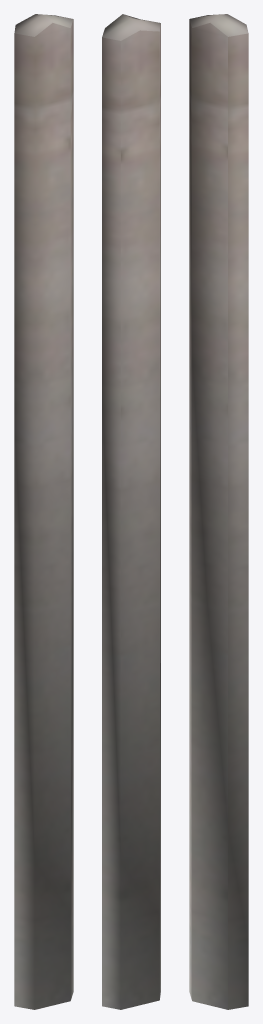
Rendered from hfence_weld.fbx.
3 renders of one model, left to right at view 1: azimuth 30°, elevation 25°; view 2: azimuth 210°, elevation 25°; view 3: azimuth 330°, elevation 25°, orthographic.
Parts seen in each view (by area): view 1: hfence_weld; view 2: hfence_weld; view 3: hfence_weld.
Part boxes in pixels (<box>): hfence_weld: <box>14,14,73,1009</box>; hfence_weld: <box>102,14,160,1009</box>; hfence_weld: <box>189,14,248,1009</box>.
Size of the model in its own units: 0.0798 by 1.27 by 0.0403.
